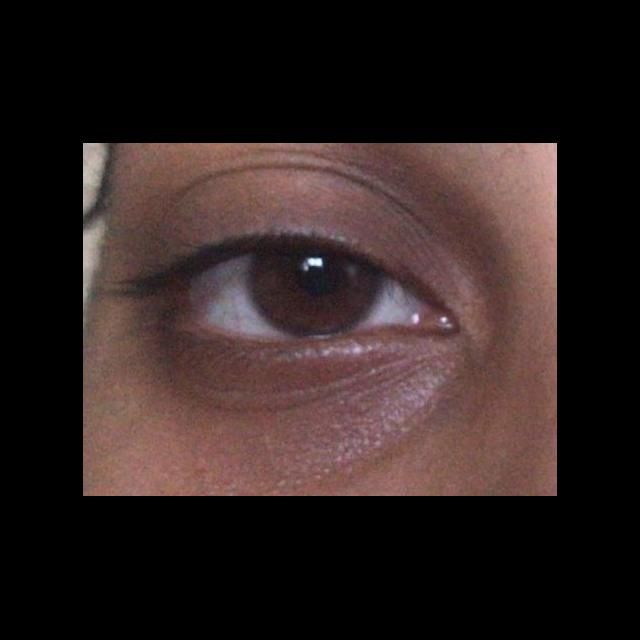eye: (191, 246, 410, 338)
iris: (252, 248, 385, 334)
